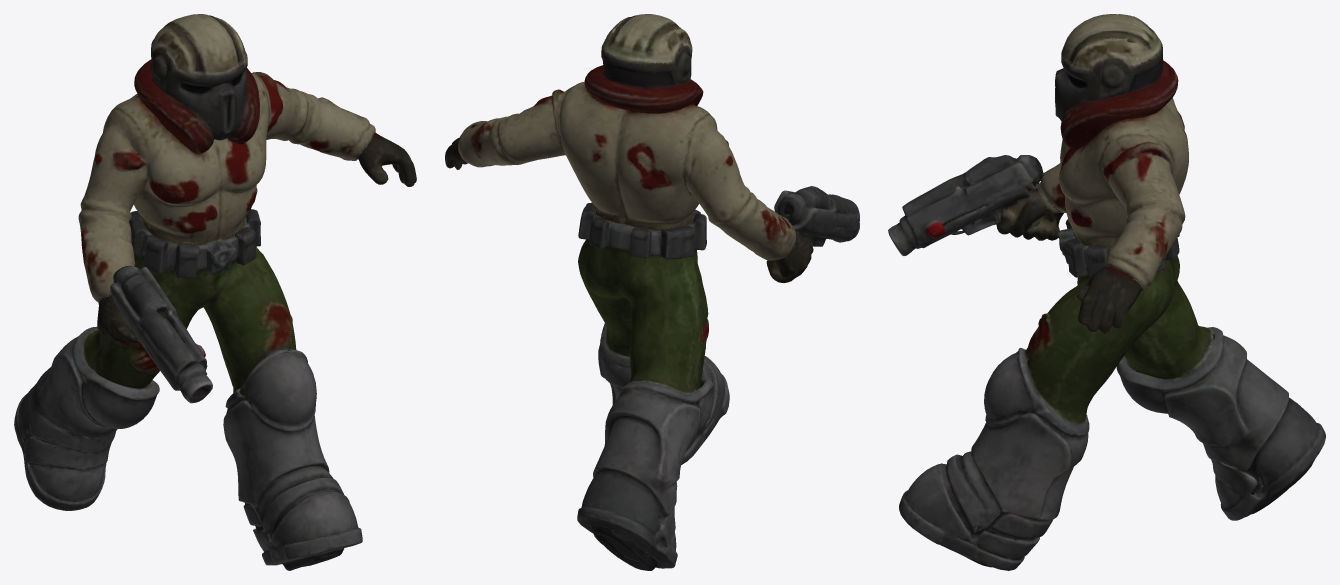
File: POSSB1_2026-08-13T181723.736.glb
3 renders of one model, left to right at view 1: azimuth 30°, elevation 25°; view 2: azimuth 150°, elevation 25°; view 3: azimuth 270°, elevation 25°, orthographic. The views are drawn at different scales.
Visible parts, largest first — view 1: world; view 2: world; view 3: world.
Part boxes in pixels (left/top/right/bottom): world: left=14, top=14, right=416, bottom=570; world: left=445, top=14, right=859, bottom=570; world: left=888, top=14, right=1325, bottom=570.
Size of the model in its own units: 0.6965 by 1 by 0.7566.
1 material, 1 textured.
